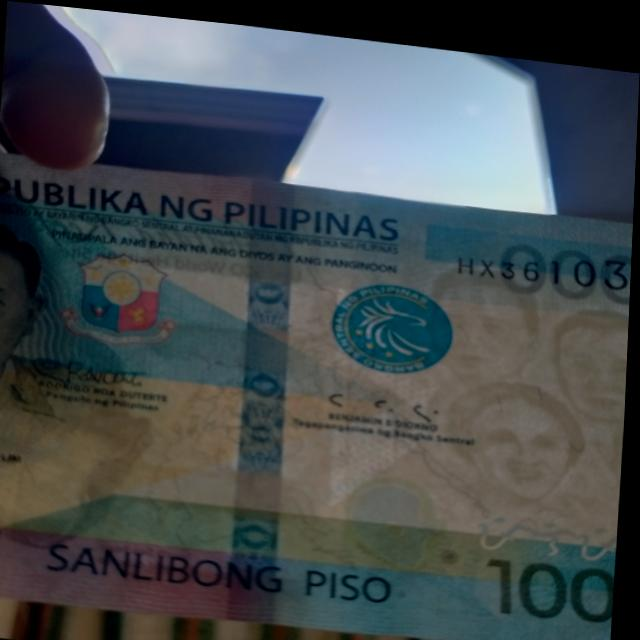security_thread: (226, 168, 304, 616)
see_through_mark: (460, 487, 622, 563)
serial_number: (451, 222, 634, 286)
watermark: (406, 247, 633, 517)
